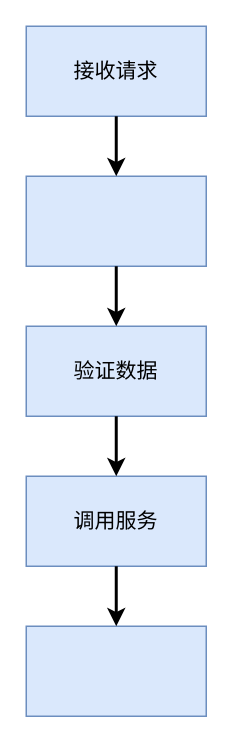
Some shapes in this 233 by 743 pixel diagram are drawn without their labels. Here are the shapes that lost their labels. From the top down, the box of each, then its label:
(25, 175, 206, 266): 解析参数
(25, 625, 206, 716): 返回结果
